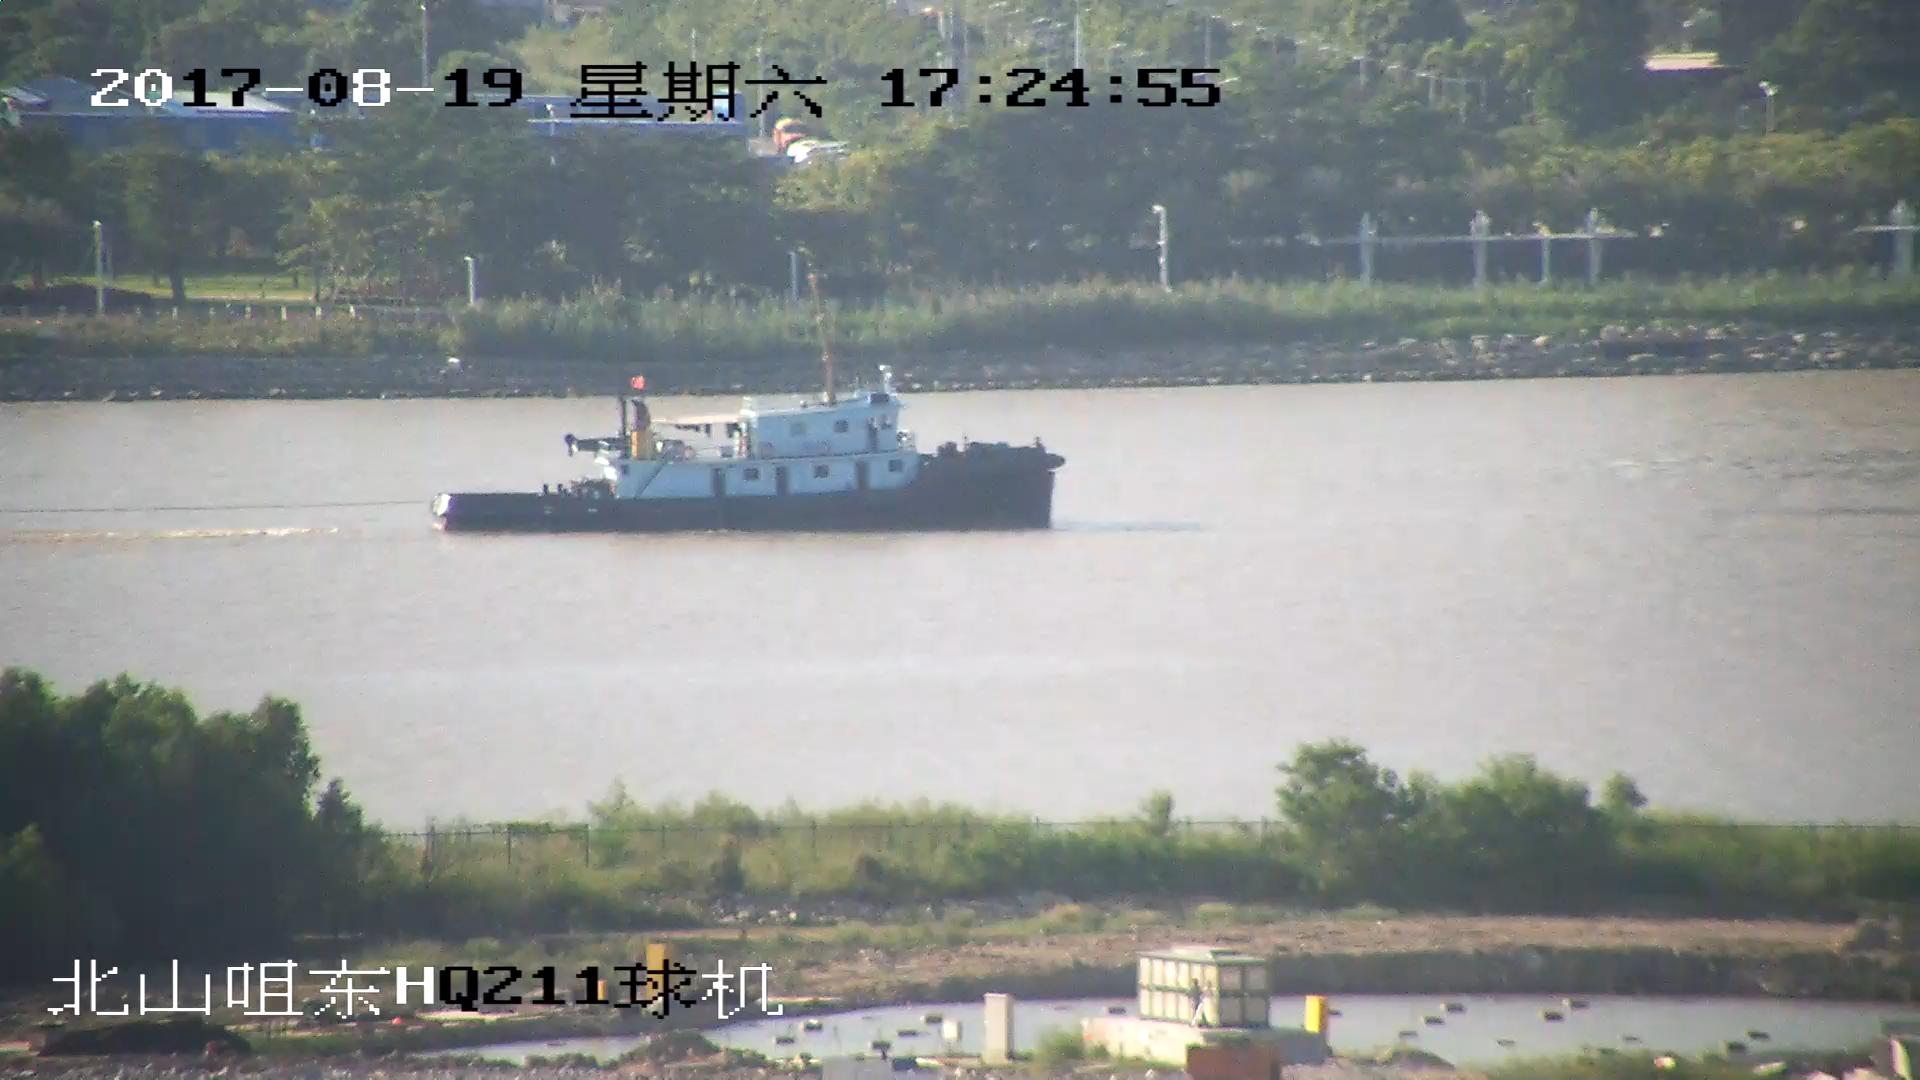fishing boat: (438, 364, 1064, 534)
